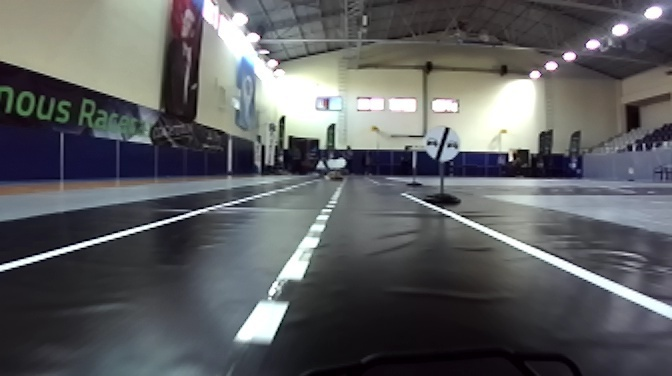sollama_serbest: (422, 125, 461, 163)
